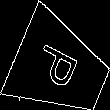P_SE: (33, 41, 88, 96)
